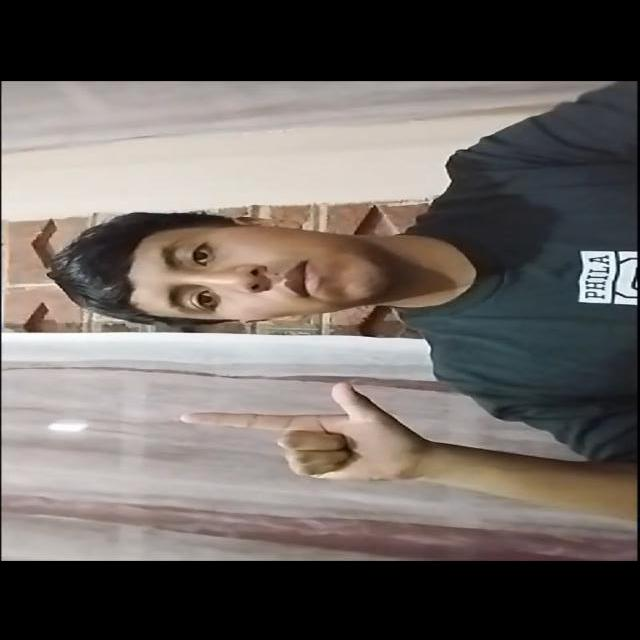L: (153, 374, 432, 495)
